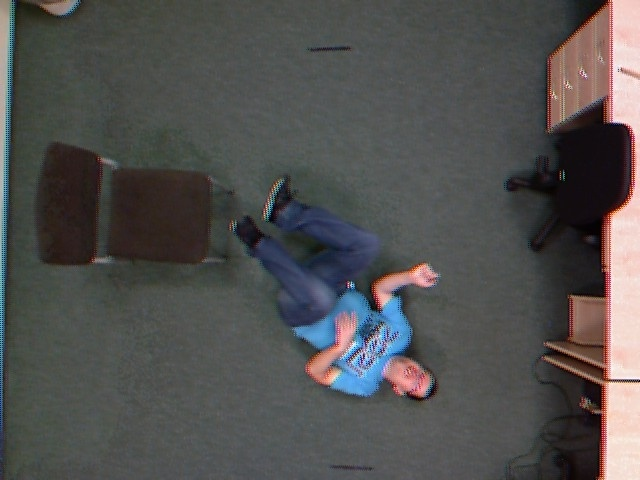fall: (226, 169, 450, 406)
